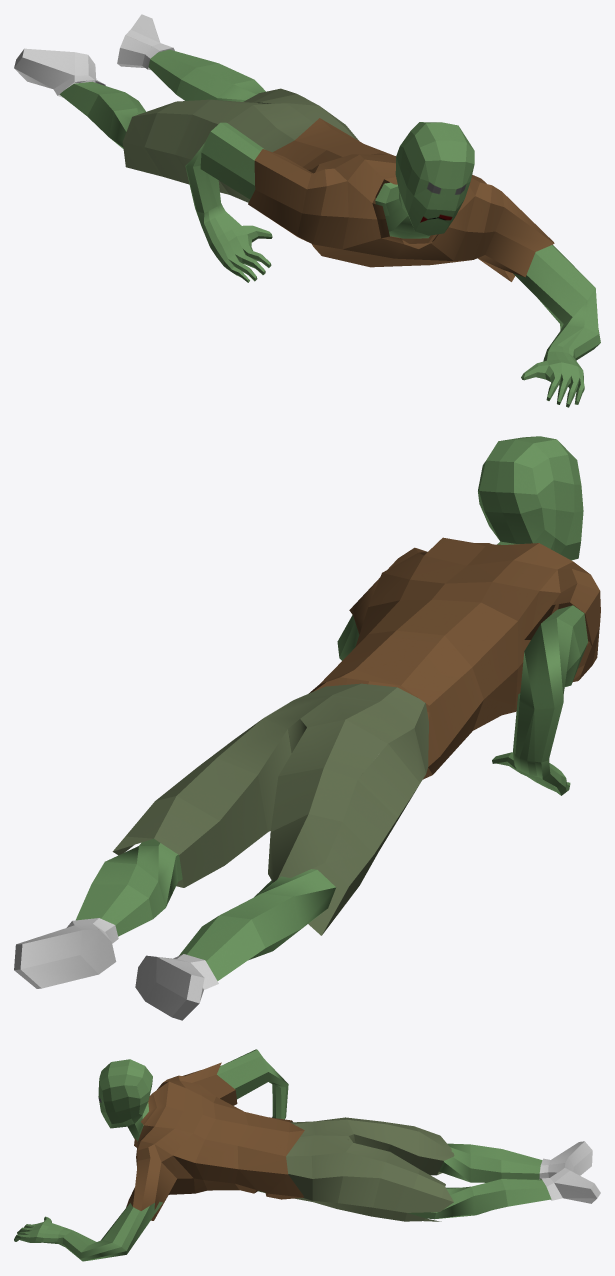
Rendered from ZombieCrawl(57).obj.
3 views of the same model, one above another, from view 1: azimuth 30°, elevation 25°; view 2: azimuth 150°, elevation 25°; view 3: azimuth 270°, elevation 25° (orthographic). The views are drawn at different scales.
Visible parts, largest first — view 1: Object001; view 2: Object001; view 3: Object001.
Boxes of the visible parts, bbox=[...] form: Object001: bbox=[14, 14, 600, 407]; Object001: bbox=[14, 436, 600, 1020]; Object001: bbox=[14, 1049, 600, 1261].
Size of the model in its own units: 26.86 by 21.02 by 68.99.
